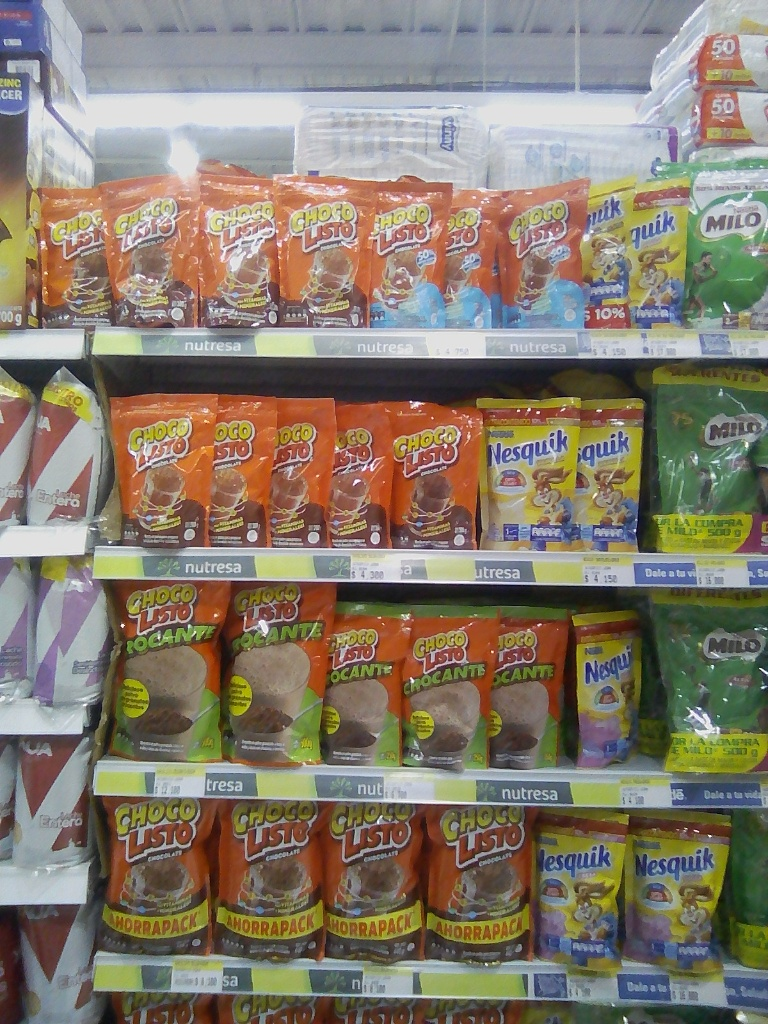COL0170102DYP25000: (322, 603, 408, 767)
COL0170102DYP50000: (104, 584, 220, 765)
COL0170103DYP20000: (35, 185, 106, 325)
COL0170103DYP40000: (222, 807, 320, 964)
COL0170103DYP44000: (98, 798, 220, 967)
COL0170104DYP20000: (366, 183, 445, 327)
COL0170203DYP50000: (644, 588, 763, 767)
COL0170205DYP50000: (675, 158, 768, 334)
